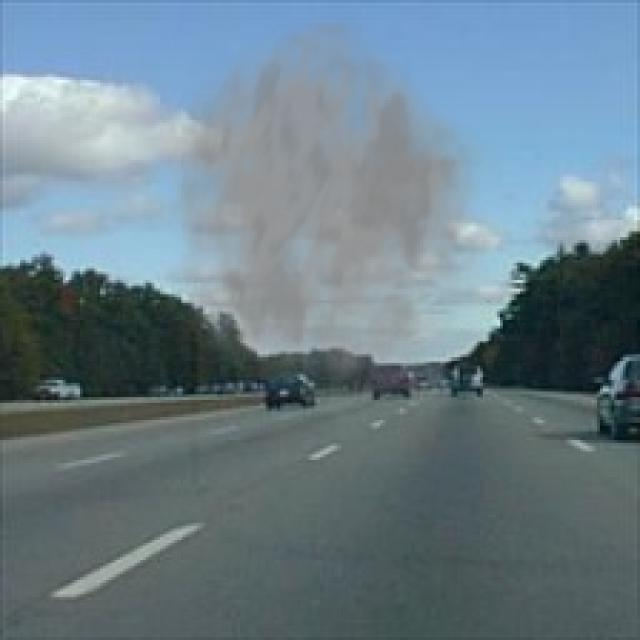Smoke: (160, 17, 503, 432)
